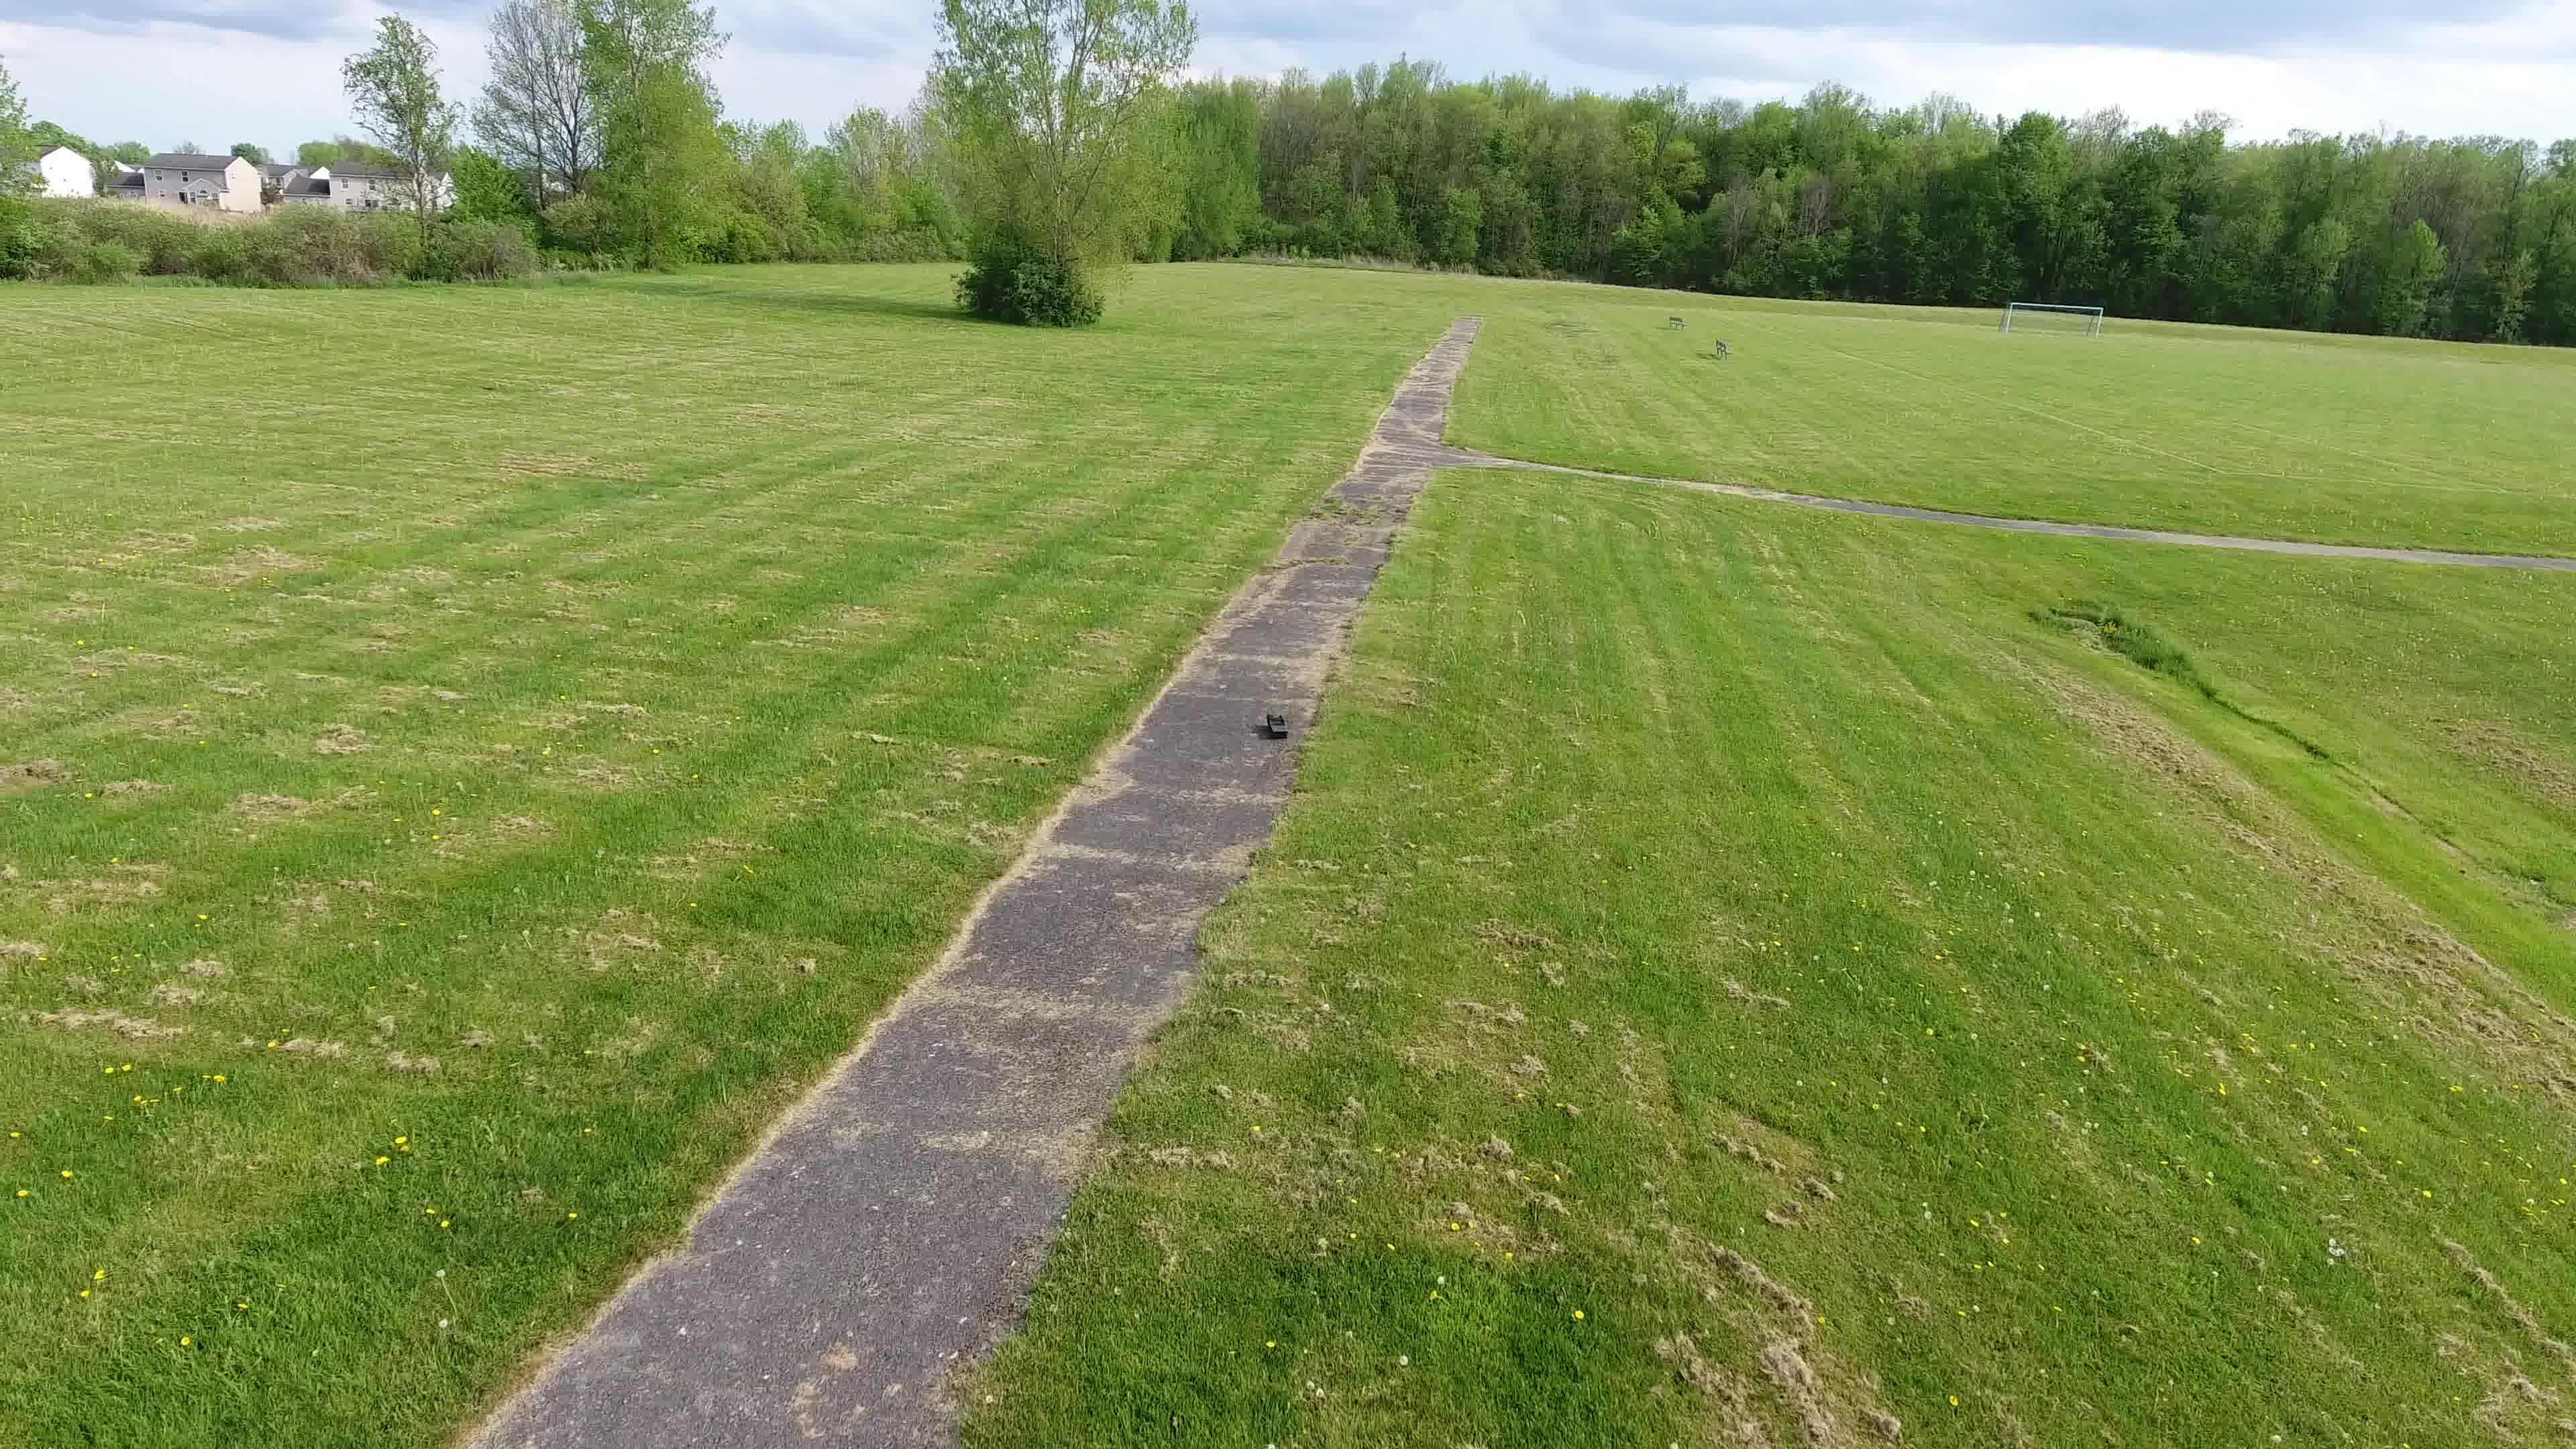transporter9_camo: (1265, 711, 1290, 740)
